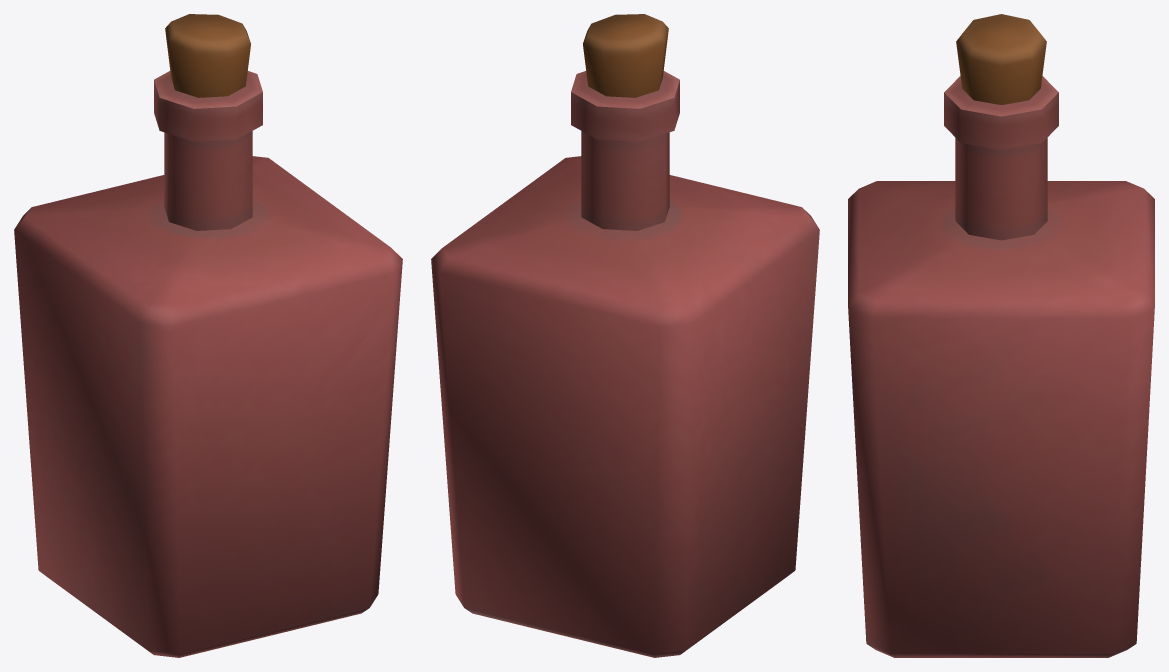
3 renders of one model, left to right at view 1: azimuth 30°, elevation 25°; view 2: azimuth 150°, elevation 25°; view 3: azimuth 270°, elevation 25°, orthographic.
Parts seen in each view (by area): view 1: submesh_0; view 2: submesh_0; view 3: submesh_0.
Part boxes in pixels (box(x1,y1,x2,y2)): submesh_0: box(14, 14, 402, 657); submesh_0: box(431, 14, 819, 657); submesh_0: box(848, 14, 1154, 657).
Size of the model in its own units: 0.1525 by 0.315 by 0.1525.
1 material, 1 textured.
